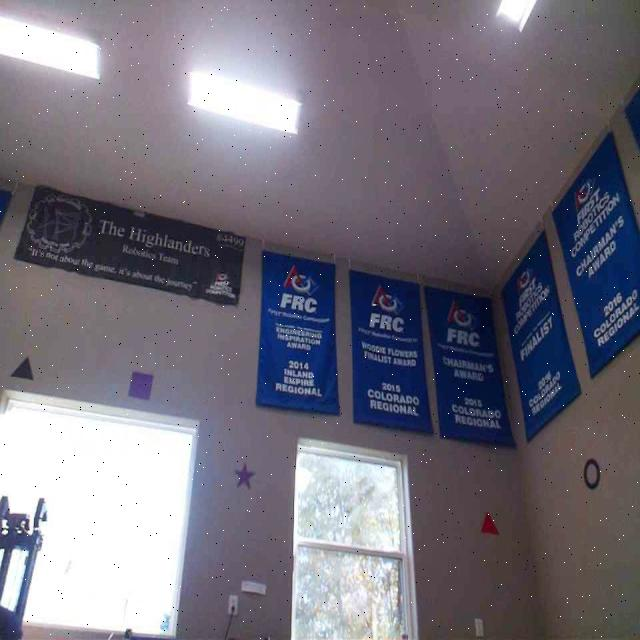ring_black: (583, 456, 601, 489)
square_purple: (126, 371, 155, 400)
star_purple: (233, 460, 256, 488)
triangle_black: (8, 354, 34, 379)
triangle_red: (482, 511, 500, 536)
